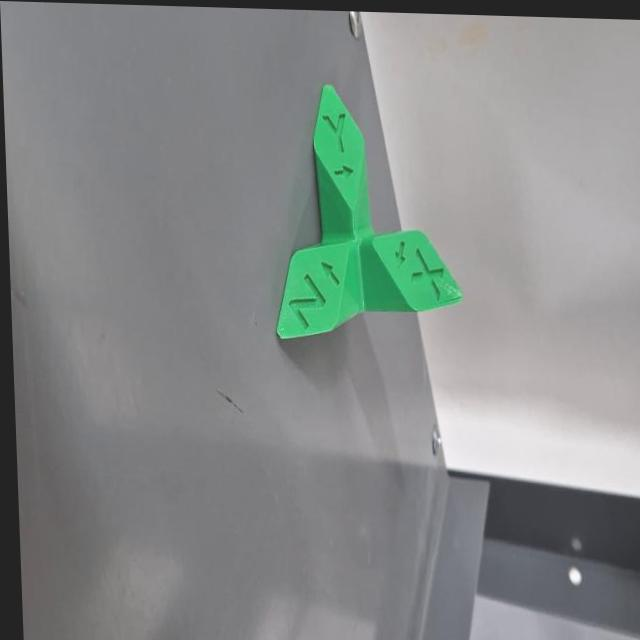eje: (260, 73, 469, 354)
